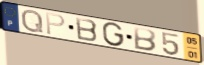5: (160, 31, 181, 56)
B: (74, 16, 99, 43), (133, 26, 157, 52)
G: (102, 22, 126, 48)
P: (45, 12, 67, 36)
Q: (21, 9, 45, 34)
